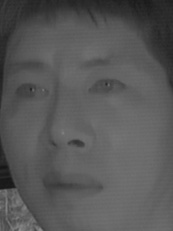eye: (9, 77, 52, 105), (85, 75, 129, 100)
mouth: (40, 165, 106, 207)
